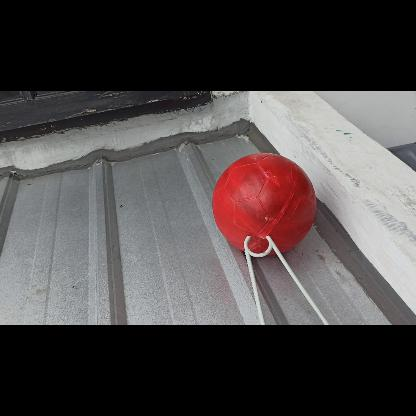red_ball: (211, 152, 314, 256)
